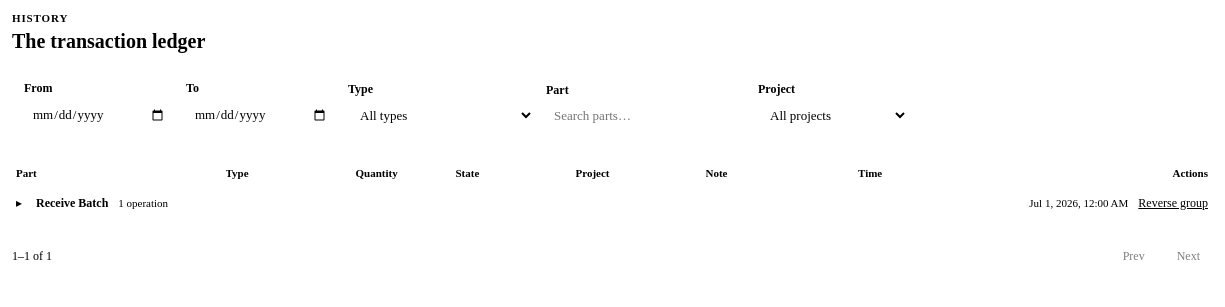
Scenario: History › a group row expands to show its member rows
Expected: the text "Member cap" is not shown
Click the button "▸ Receive Batch 1 operation Jul 1, 2026, 12:00 AM": (72, 202) [16,196,1128,210]
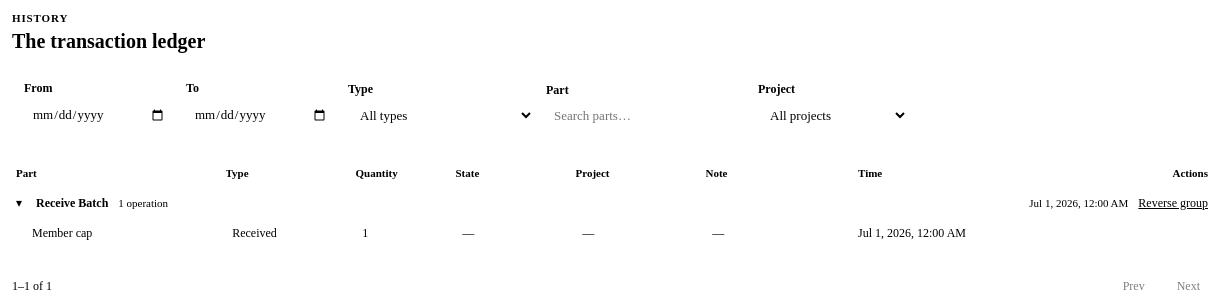
Expected: the text "Member cap" is shown, [32,226,92,240]
